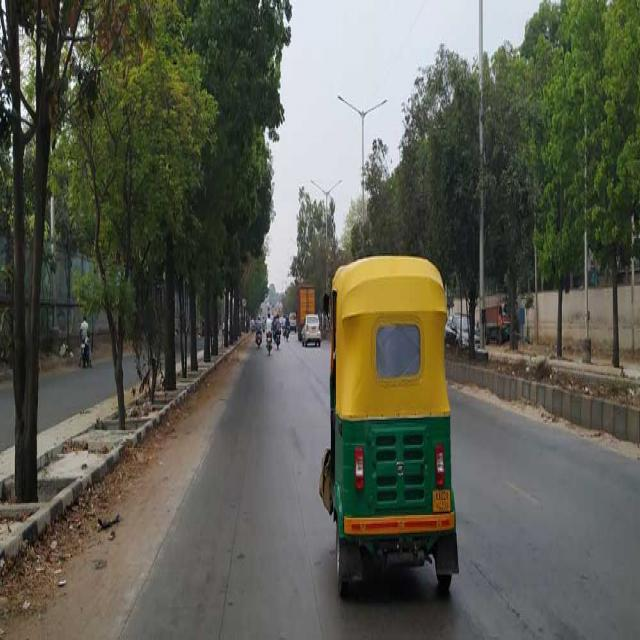autorikshaw: (330, 253, 460, 600)
